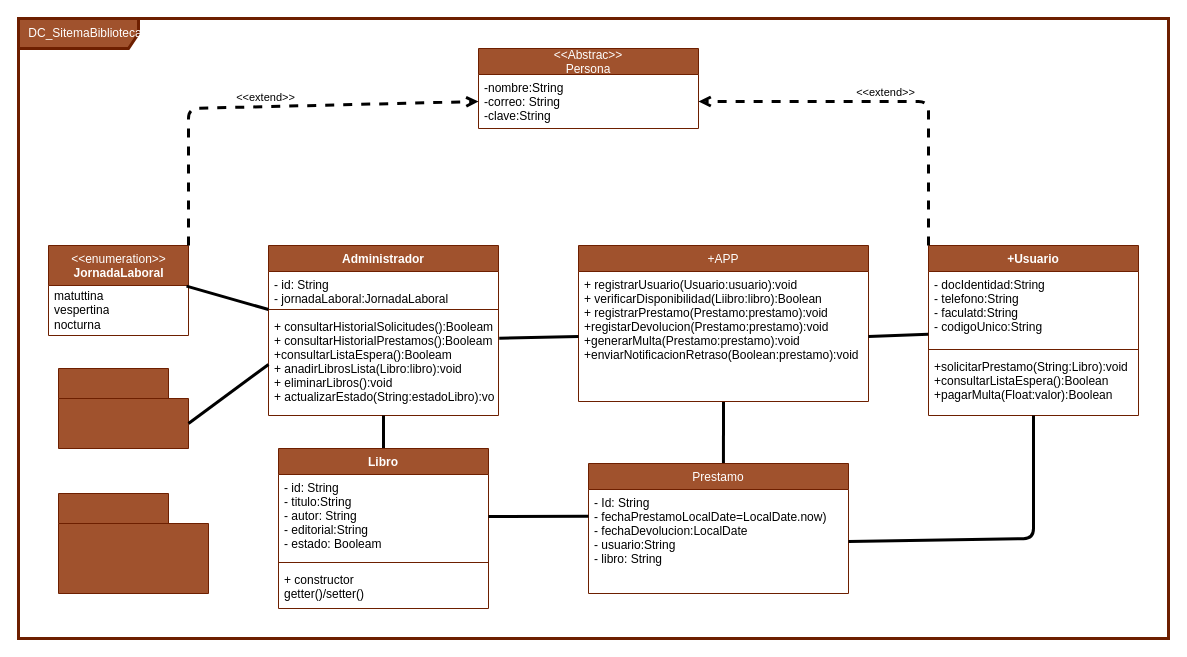
This 1187x657 diagram has some shape labels left out. The shapes that lost their labels are listed below. From the top down, each one's centre as x and y in pixels, then its label:
At point (123, 408): "LIbros".
At point (133, 543): "Base de datos".
